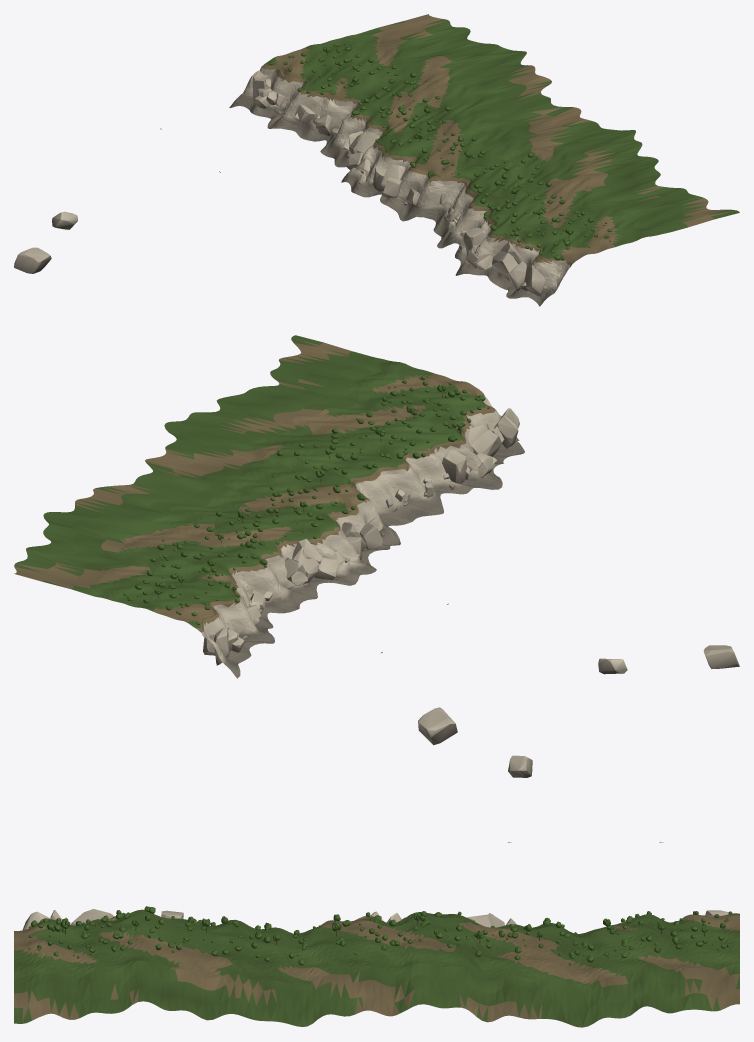
File: firstspan-coast.glb
3 renders of one model, top to bottom at view 1: azimuth 30°, elevation 25°; view 2: azimuth 150°, elevation 25°; view 3: azimuth 270°, elevation 25°, orthographic. The views are drawn at different scales.
Visible parts, largest first — view 1: FS_green.004, FS_rock.004, FS_soil.002; view 2: FS_green.004, FS_rock.004, FS_soil.002; view 3: FS_green.004, FS_soil.002, FS_rock.004.
Part boxes in pixels (x1,y1,x2,y2): FS_green.004: (266,19,739,260); FS_rock.004: (14,67,659,306); FS_soil.002: (261,14,735,266); FS_green.004: (14,335,488,627); FS_rock.004: (150,396,739,678); FS_soil.002: (14,339,495,632); FS_green.004: (14,906,739,1027); FS_soil.002: (14,914,739,1027); FS_rock.004: (17,707,732,1027).
Size of the model in its own units: 312 by 28.83 by 268.
